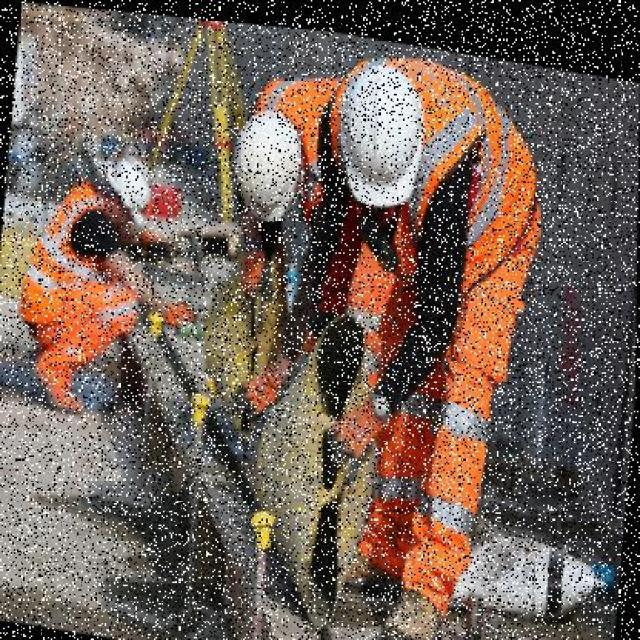helmet: (330, 38, 438, 218), (220, 91, 320, 243), (99, 145, 163, 216)
vest: (380, 48, 536, 352), (28, 172, 122, 332), (249, 46, 345, 184)
